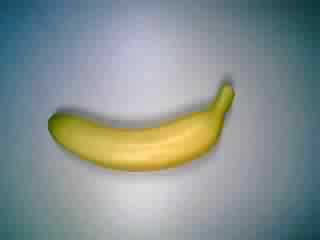banana: (46, 82, 244, 176)
